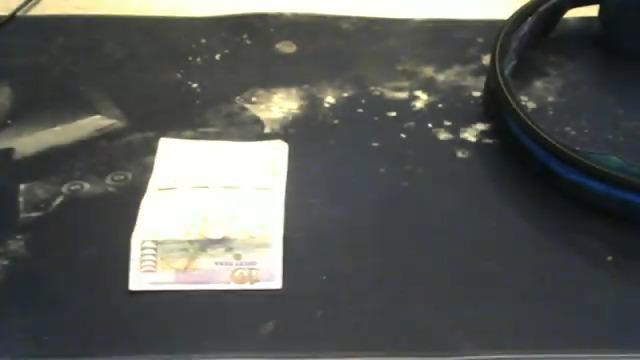10leva: (126, 138, 289, 292)
